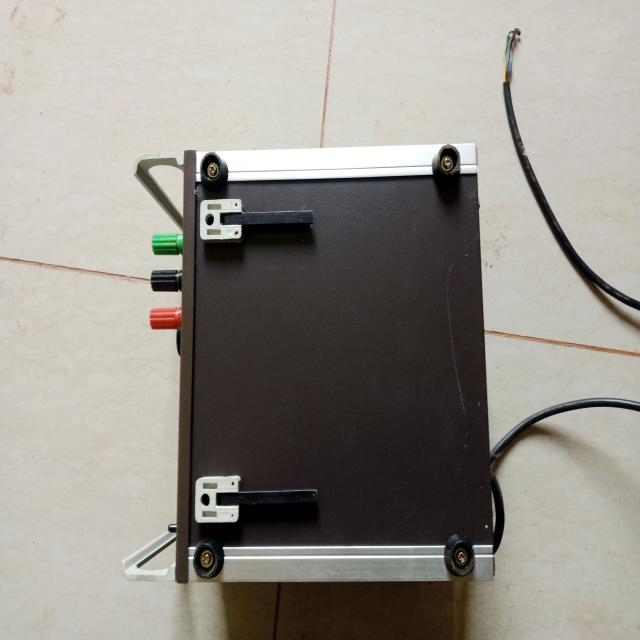Low Distortion Signal Generator: (145, 137, 514, 592)
